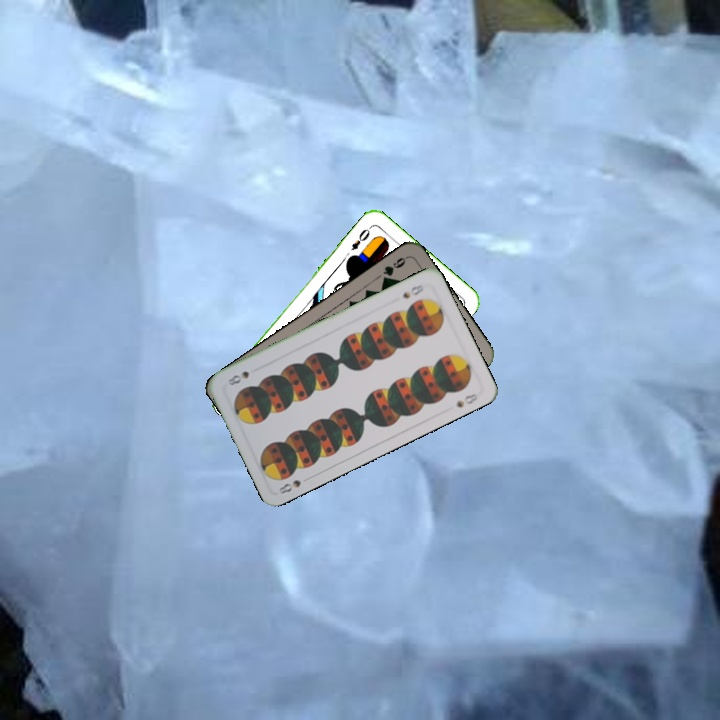EO: (347, 222, 374, 253)
G9: (378, 253, 410, 286)
S8: (275, 473, 313, 497), (399, 280, 426, 301)
